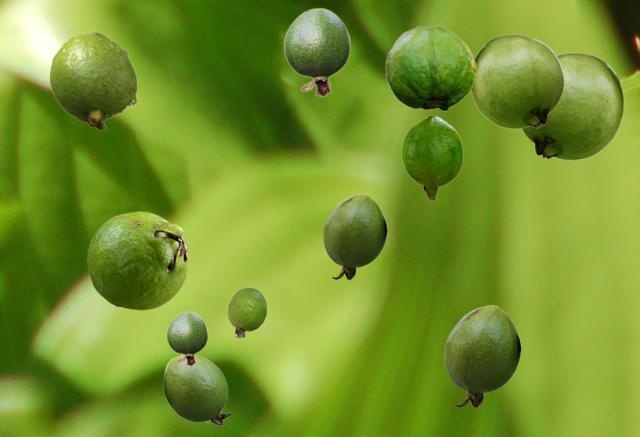guava: (521, 52, 623, 159), (87, 211, 187, 309), (470, 34, 563, 128), (49, 31, 136, 129), (444, 305, 520, 407), (385, 25, 475, 110), (283, 7, 350, 96), (323, 194, 386, 279), (401, 115, 462, 200), (163, 354, 231, 424), (166, 311, 207, 365), (227, 287, 266, 337)
